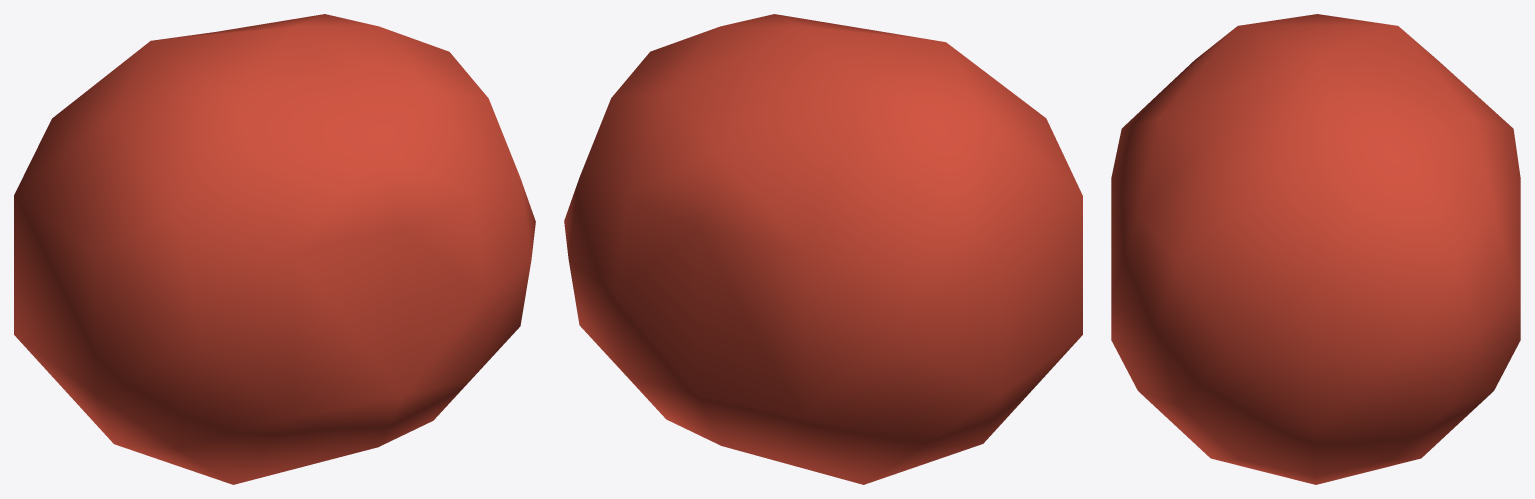
The model's file is waddledoo_mano_izq.obj.
3 views of the same model, side by side, from view 1: azimuth 30°, elevation 25°; view 2: azimuth 150°, elevation 25°; view 3: azimuth 270°, elevation 25° (orthographic). The views are drawn at different scales.
Size of the model in its own units: 0.3353 by 0.2982 by 0.2695.
